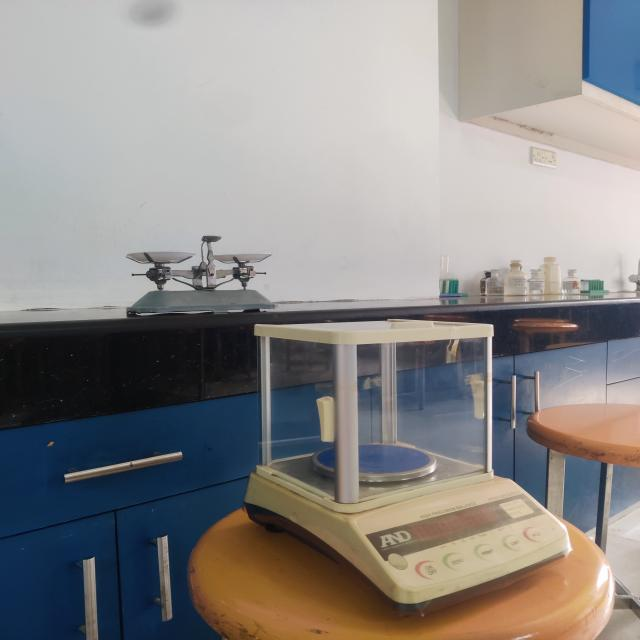Mechanical_Balance_Scale: (108, 220, 288, 316)
Precision_Weight_Scale: (236, 319, 586, 624)
